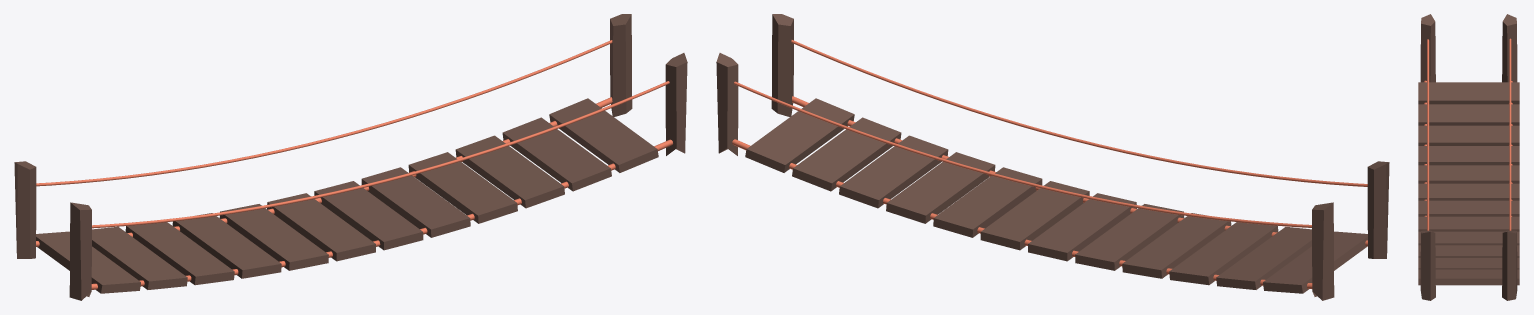
File: 140810190019_Devara_Jembatan.fbx
3 renders of one model, left to right at view 1: azimuth 30°, elevation 25°; view 2: azimuth 150°, elevation 25°; view 3: azimuth 270°, elevation 25°, orthographic. The views are drawn at different scales.
Visible parts, largest first — view 1: Cube, Cylinder, NurbsPath.004, NurbsPath.003, NurbsPath.001; view 2: Cube, Cylinder, NurbsPath.004, NurbsPath.003, NurbsPath.002; view 3: Cube, Cylinder, NurbsPath.004, NurbsPath.003.
Boxes of the visible parts, <box> form: Cube: <box>36,98,658,293</box>; Cylinder: <box>14,14,687,300</box>; NurbsPath.004: <box>36,40,612,186</box>; NurbsPath.003: <box>92,81,669,228</box>; NurbsPath.001: <box>91,139,672,289</box>; Cube: <box>745,98,1367,293</box>; Cylinder: <box>716,14,1389,300</box>; NurbsPath.004: <box>734,81,1311,227</box>; NurbsPath.003: <box>791,40,1367,186</box>; NurbsPath.002: <box>732,139,1312,288</box>; Cube: <box>1418,82,1519,285</box>; Cylinder: <box>1420,14,1517,300</box>; NurbsPath.004: <box>1509,38,1511,230</box>; NurbsPath.003: <box>1427,39,1429,230</box>.
Size of the model in its own units: 465 by 84.07 by 90.99.
